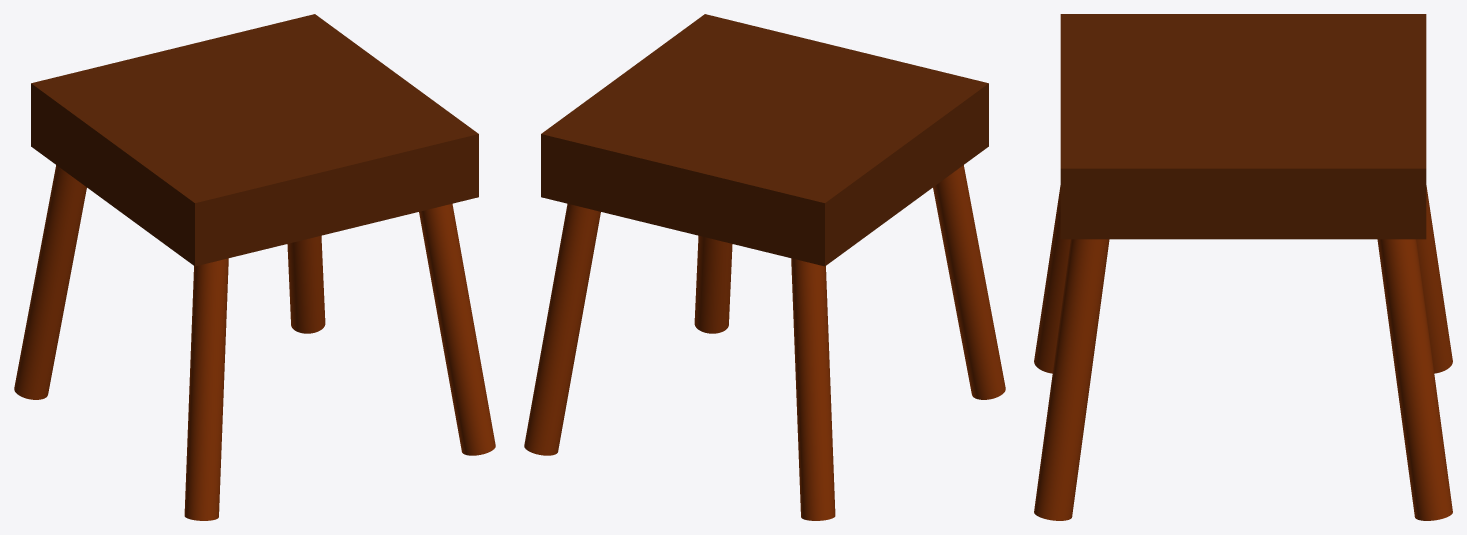
File: stool_wooden.glb
3 views of the same model, side by side, from view 1: azimuth 30°, elevation 25°; view 2: azimuth 150°, elevation 25°; view 3: azimuth 270°, elevation 25° (orthographic). The views are drawn at different scales.
Parts seen in each view (by area): view 1: Cube_0, Cylinder_1; view 2: Cube_0, Cylinder_1; view 3: Cube_0, Cylinder_1.
Boxes of the visible parts, box(x1,y1,x2,y2) form: Cube_0: box(31, 14, 478, 266); Cylinder_1: box(14, 165, 495, 520); Cube_0: box(541, 14, 988, 266); Cylinder_1: box(524, 165, 1005, 520); Cube_0: box(1060, 14, 1426, 239); Cylinder_1: box(1034, 185, 1452, 520).
Bounding box in the file's own units: 2.16 × 2.11 × 2.29.
